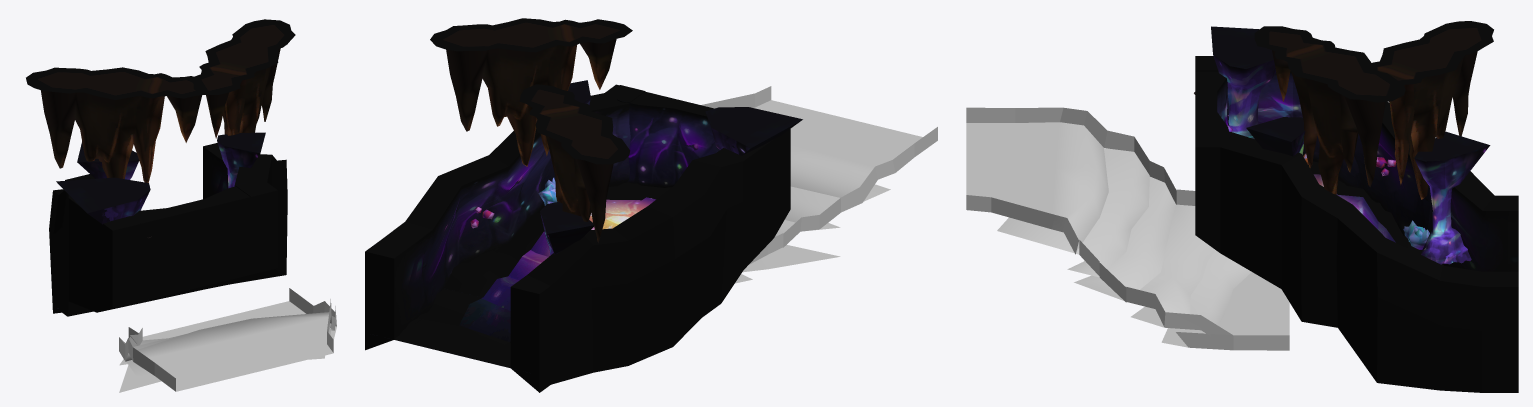
File: Dungeon_101_GoalStep_003.fbx
3 renders of one model, left to right at view 1: azimuth 30°, elevation 25°; view 2: azimuth 150°, elevation 25°; view 3: azimuth 270°, elevation 25°, orthographic. The views are drawn at different scales.
Visible parts, largest first — view 1: Dun_101_StepD_001_Wall, Dan2 (1), Dungeon_011_Iwa004_1, Dun_101_Door_002, Dungeon_011_Iwa004_1 (1), Dun_101_StepD_001; view 2: Dun_101_StepD_001_Wall, Dan2 (1), Dungeon_011_Iwa004_1 (1), Dungeon_011_Iwa004_1, Dun_101_Door_002, Dun_101_StepD_001_shadow, Dun_101_StepD_001_Ground, Dun_101_StepD_001; view 3: Dun_101_StepD_001_Wall, Dan2 (1), Dungeon_011_Iwa004_1 (1), Dun_101_StepD_001, Dungeon_011_Iwa004_1, Dun_101_Door_002, Dun_101_StepD_001_shadow, Dun_101_StepD_001_Ground.
Boxes of the visible parts, x1,y1,x2,y2 form: Dun_101_StepD_001_Wall: (49, 143, 287, 316); Dan2 (1): (119, 288, 336, 392); Dungeon_011_Iwa004_1: (26, 67, 202, 182); Dun_101_Door_002: (107, 180, 273, 301); Dungeon_011_Iwa004_1 (1): (191, 19, 295, 138); Dun_101_StepD_001: (56, 132, 265, 224); Dun_101_StepD_001_Wall: (365, 84, 790, 392); Dan2 (1): (701, 86, 937, 283); Dungeon_011_Iwa004_1 (1): (430, 18, 632, 166); Dungeon_011_Iwa004_1: (519, 84, 630, 242); Dun_101_Door_002: (605, 85, 719, 187); Dun_101_StepD_001_shadow: (395, 182, 660, 367); Dun_101_StepD_001_Ground: (394, 197, 690, 368); Dun_101_StepD_001: (470, 80, 802, 255); Dun_101_StepD_001_Wall: (1195, 56, 1518, 392); Dan2 (1): (966, 107, 1289, 350); Dungeon_011_Iwa004_1 (1): (1254, 26, 1405, 194); Dun_101_StepD_001: (1211, 26, 1490, 264); Dungeon_011_Iwa004_1: (1371, 21, 1493, 199); Dun_101_Door_002: (1195, 57, 1231, 144); Dun_101_StepD_001_shadow: (1308, 161, 1443, 265); Dun_101_StepD_001_Ground: (1313, 174, 1395, 242).
Size of what is drawn, in the model's own units: 8.38 by 6.63 by 11.5.
